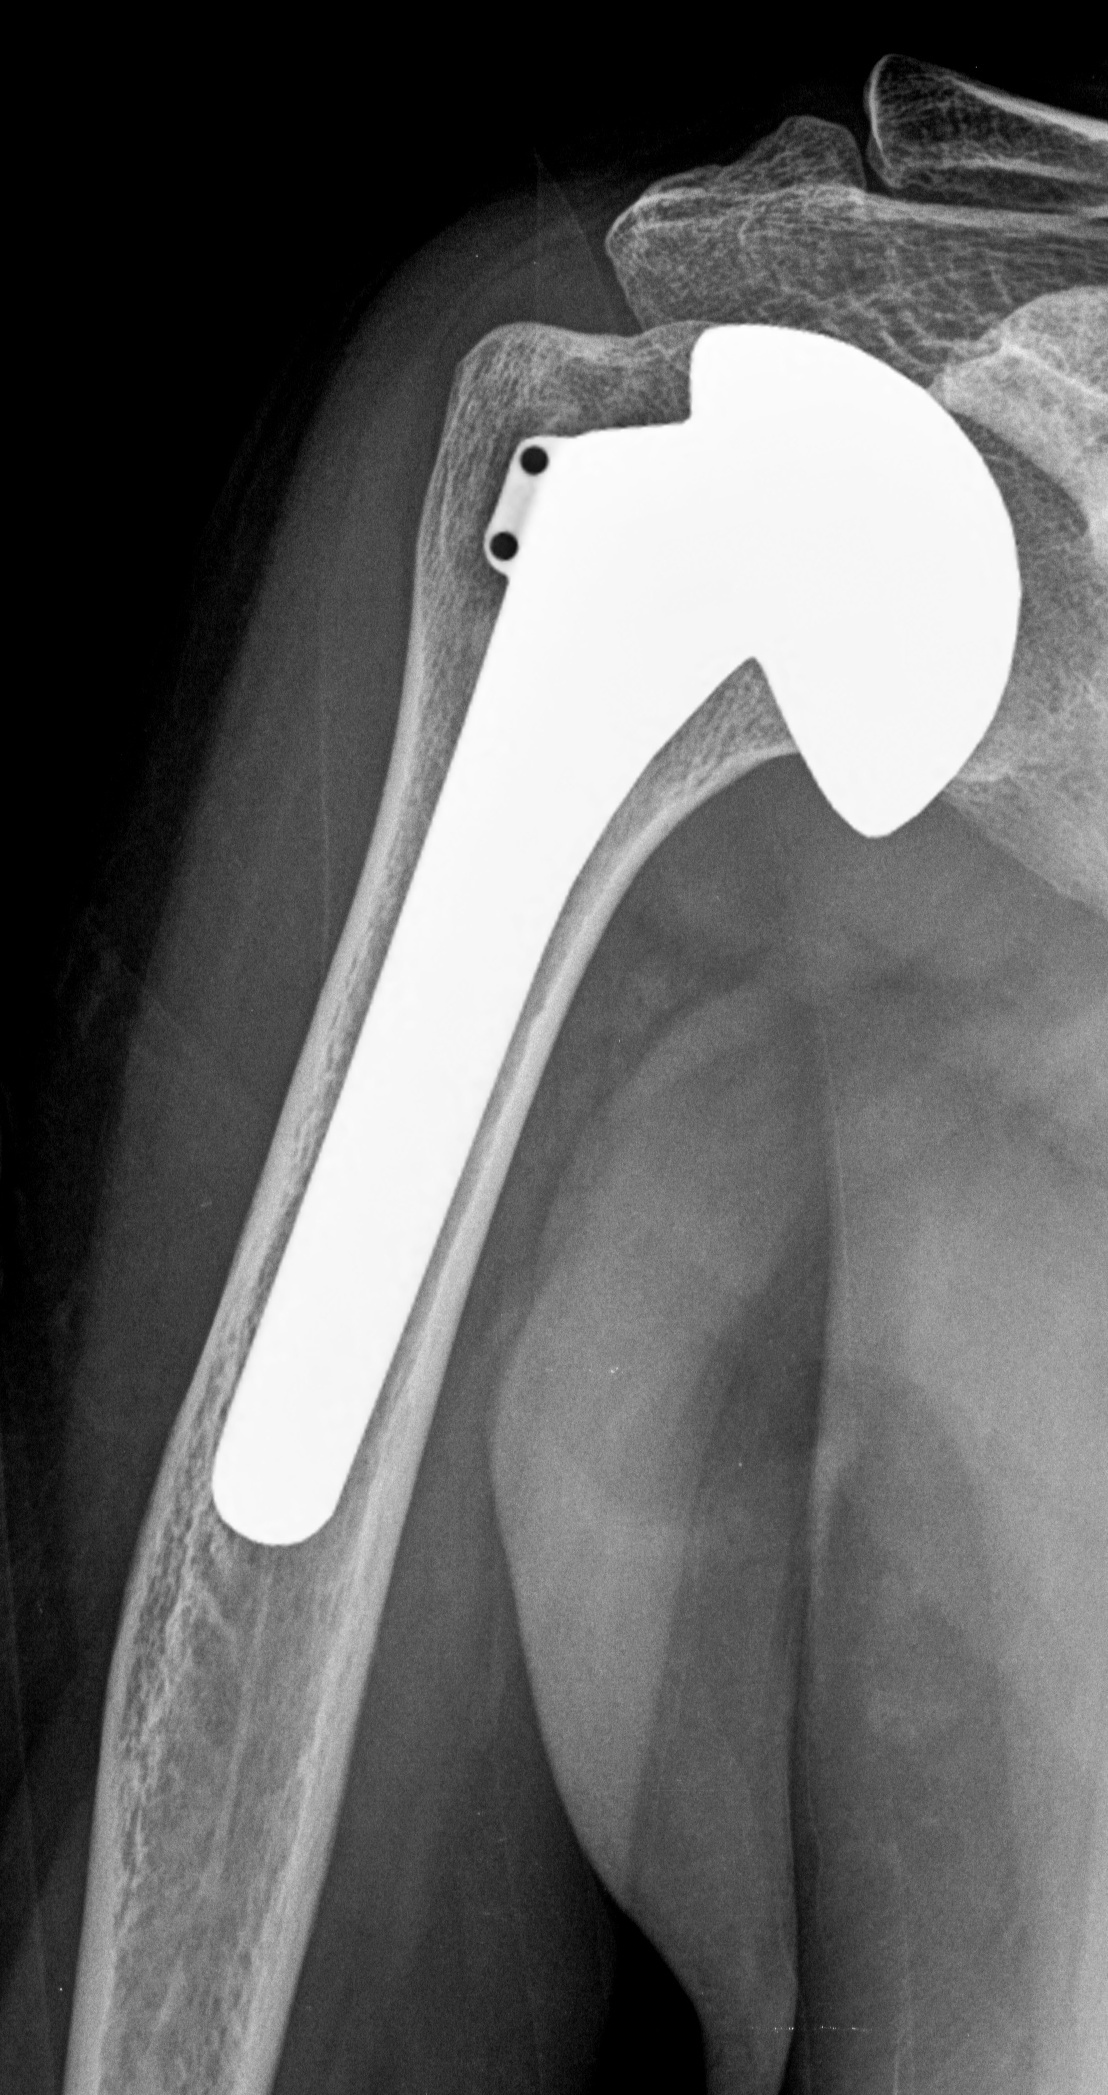Shoulder - AequalisPressfit - Tornier: (475, 309, 1044, 855)
